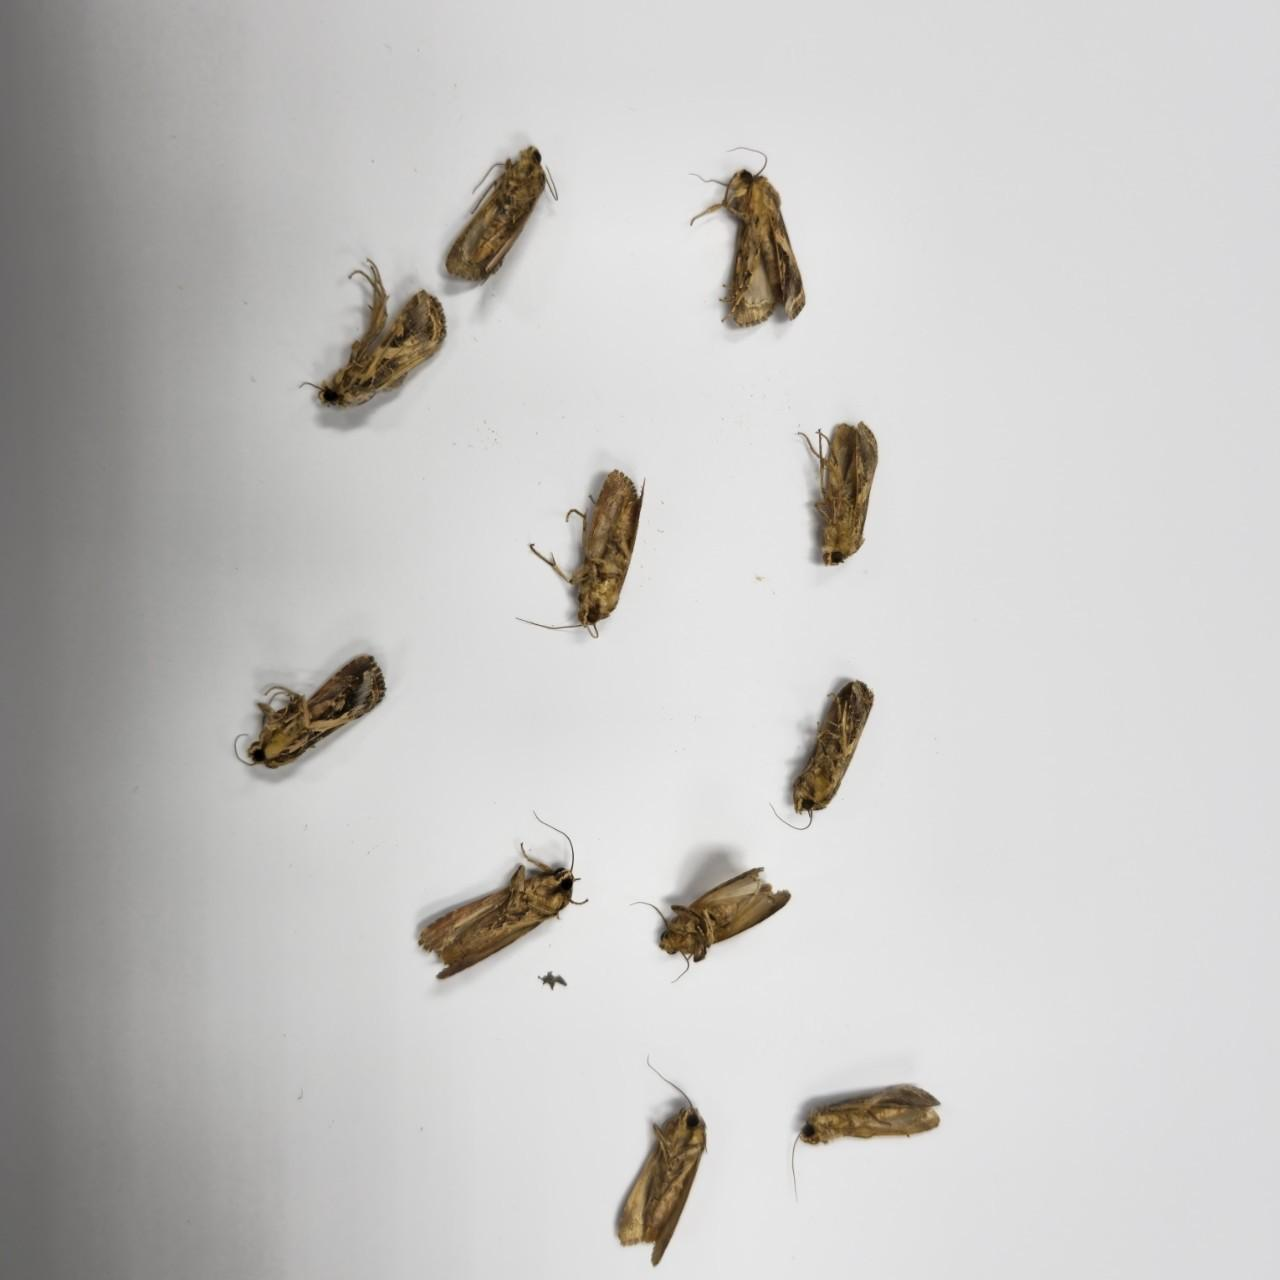Spodoptera litura: (418, 810, 591, 980), (297, 257, 445, 409), (516, 468, 645, 639), (688, 147, 806, 329), (617, 1055, 708, 1267), (631, 867, 791, 983), (791, 1084, 941, 1203), (234, 654, 387, 769), (769, 679, 874, 830), (444, 144, 559, 282), (797, 418, 879, 567)
